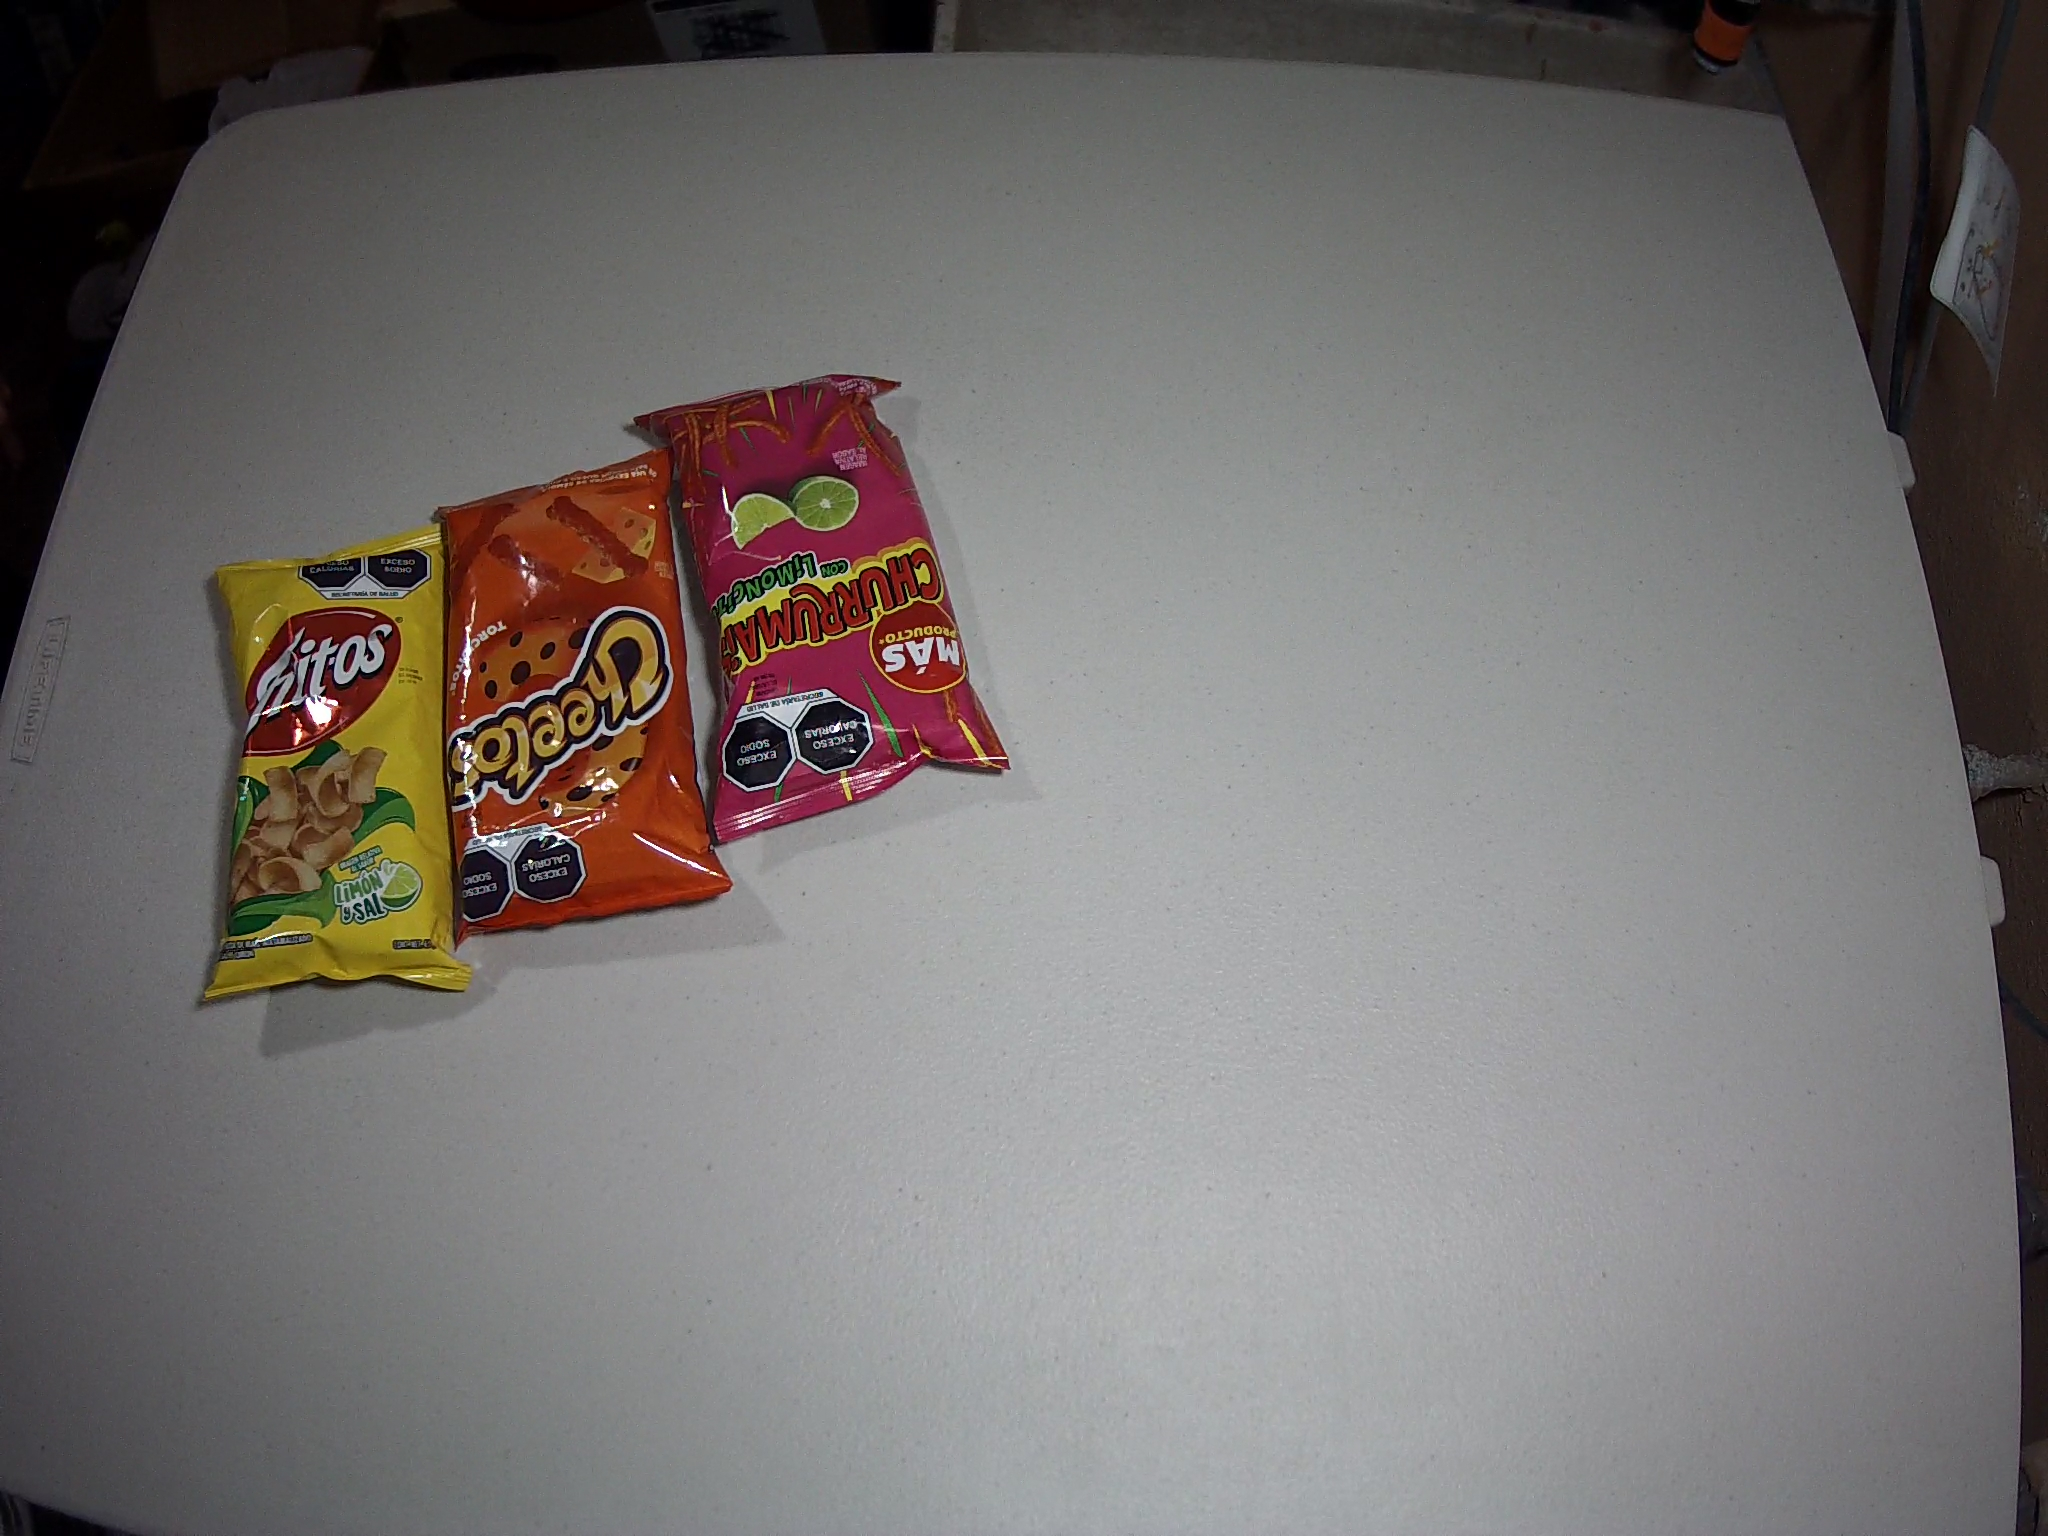CheetosTorciditos_55_F: (435, 445, 735, 957)
Churrumais_70_F: (634, 374, 1014, 847)
FritosSalLimon_65_F: (198, 518, 476, 1007)
